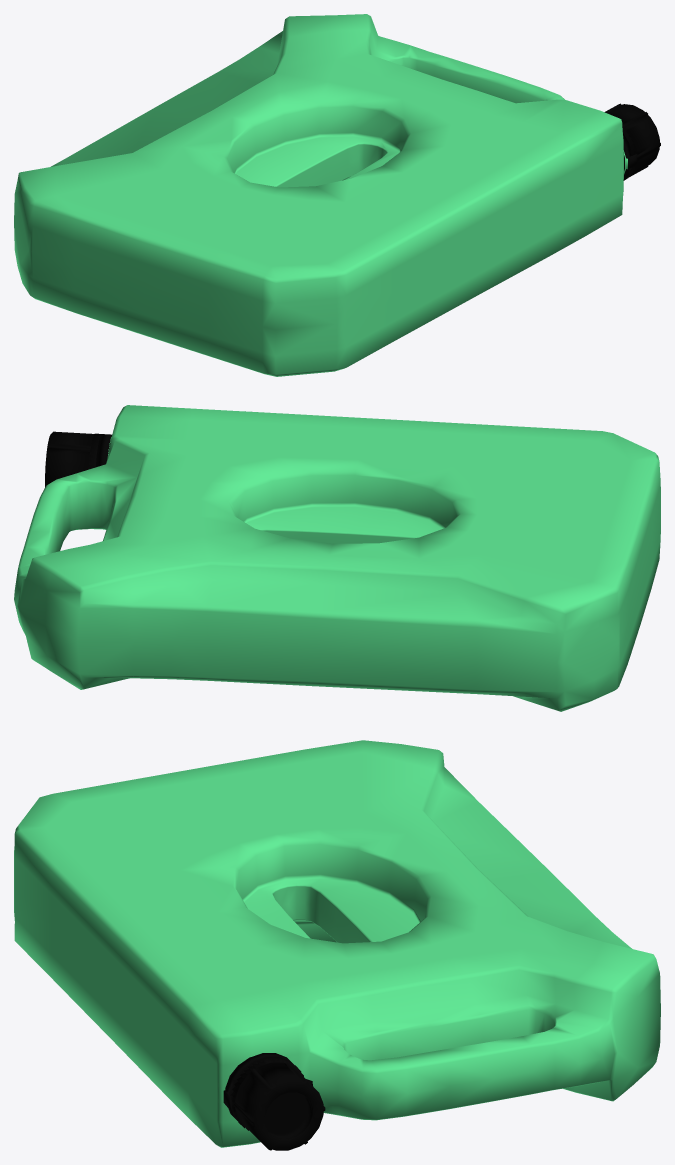
Rendered from ToyObject_199.fbx.
3 renders of one model, top to bottom at view 1: azimuth 30°, elevation 25°; view 2: azimuth 150°, elevation 25°; view 3: azimuth 270°, elevation 25°, orthographic. The views are drawn at different scales.
Visible parts, largest first — view 1: Object.015; view 2: Object.015; view 3: Object.015.
Boxes of the visible parts, <box> form: Object.015: <box>14,14,660,376</box>; Object.015: <box>14,405,660,711</box>; Object.015: <box>14,740,660,1150</box>.
Size of the model in its own units: 0.1928 by 0.0311 by 0.1606.
